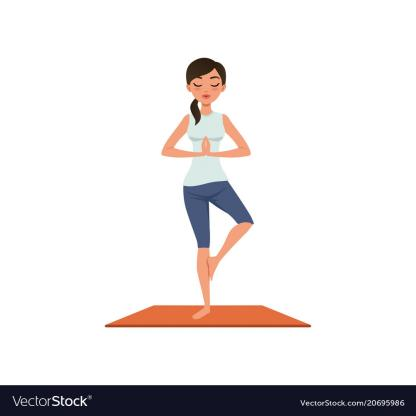godness: (157, 53, 262, 321)
